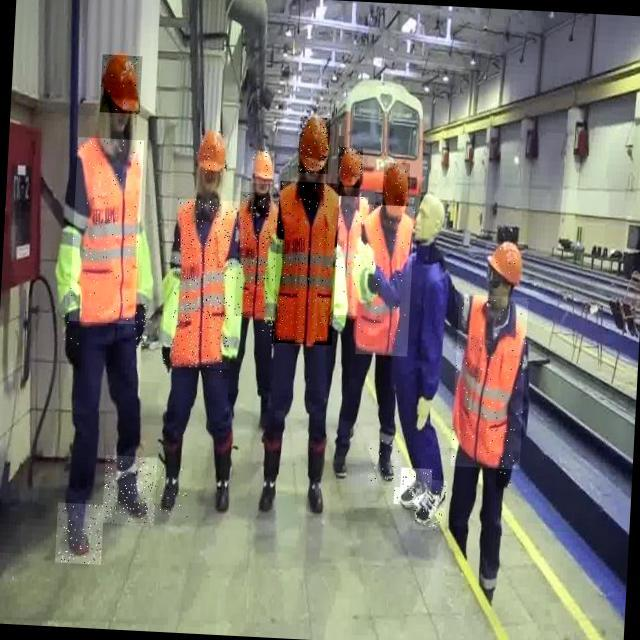Gloves: (245, 432, 290, 515), (299, 435, 333, 519), (203, 449, 238, 528), (326, 424, 365, 481), (58, 305, 92, 369), (128, 299, 150, 347), (489, 464, 518, 490)
Helmet: (100, 55, 143, 115), (298, 117, 331, 175), (382, 163, 411, 222), (485, 241, 525, 283), (196, 131, 228, 179), (337, 148, 363, 189), (251, 151, 275, 185)
Person: (34, 43, 164, 620), (442, 214, 578, 620), (243, 98, 348, 564), (330, 146, 443, 516), (157, 119, 243, 559)
Safety Boot: (103, 455, 158, 526), (55, 502, 104, 565), (156, 468, 190, 518), (368, 440, 403, 488)
Safety Vest: (69, 137, 145, 324), (451, 295, 529, 470), (169, 199, 238, 370), (272, 181, 340, 346), (355, 204, 415, 357), (235, 192, 281, 318), (333, 197, 369, 318), (53, 220, 89, 324), (161, 269, 190, 354), (223, 259, 245, 365), (330, 248, 353, 339), (265, 235, 289, 322), (136, 225, 158, 312), (358, 239, 383, 311)
